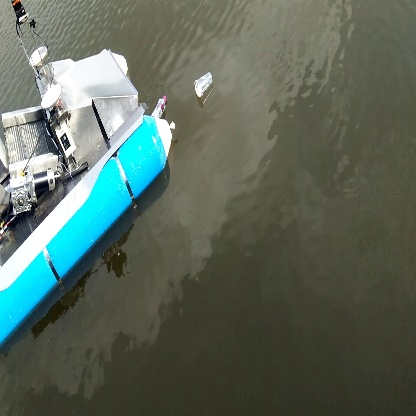bottle: (188, 69, 218, 104)
